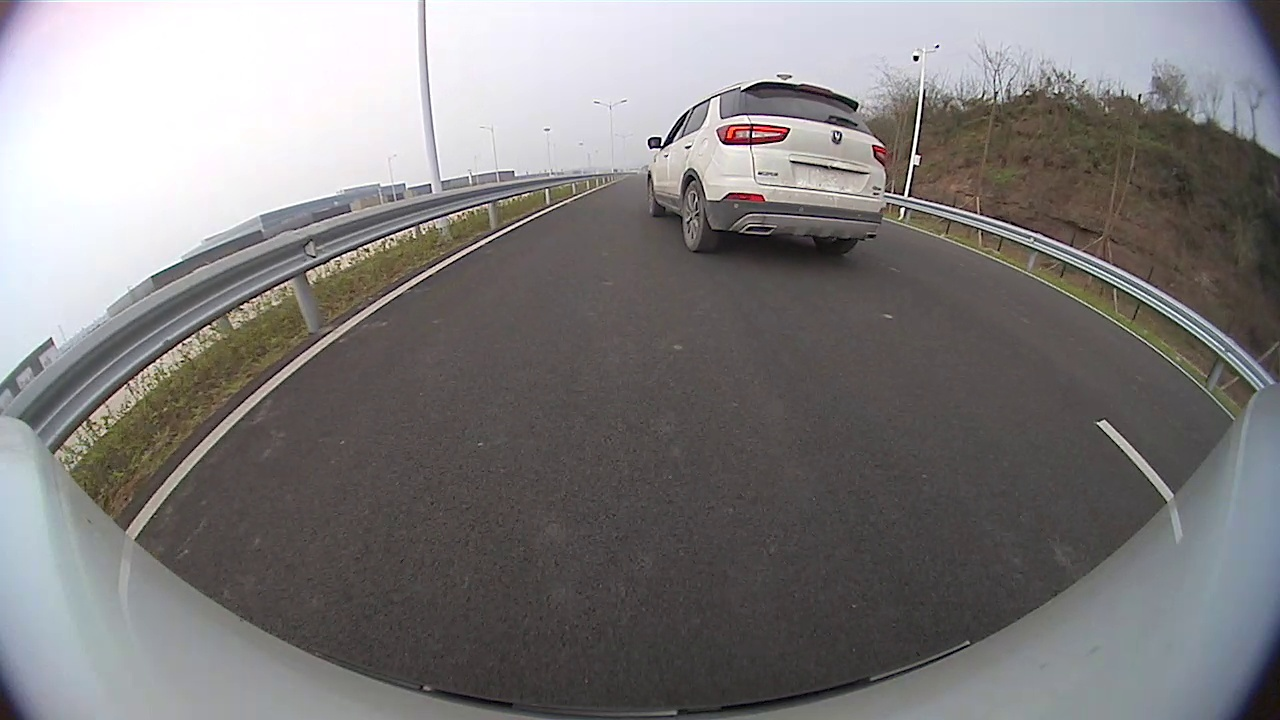car: (642, 75, 891, 262)
front: (645, 172, 668, 222)
rear: (679, 179, 720, 254)
